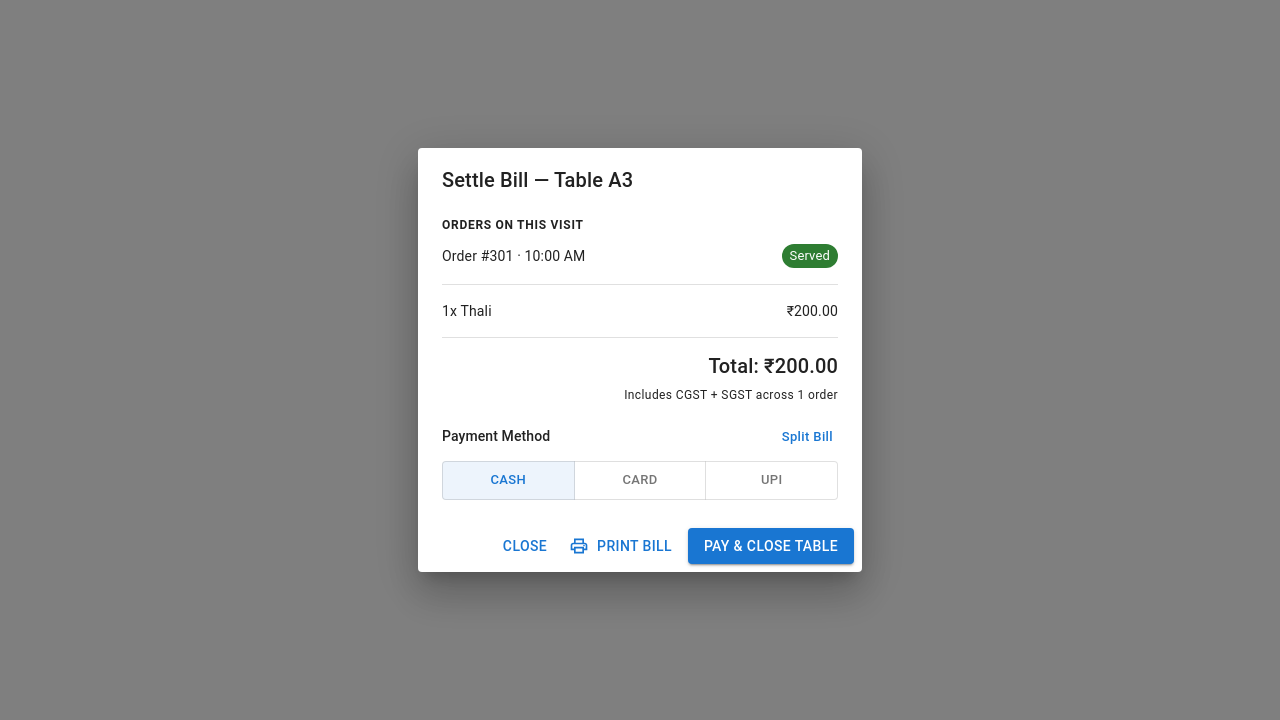
Test case: SettleBillDialog - split bill › blocks settling while the splits don't add up to the amount due
Expected: the heading "Total: ₹200.00" is shown, [709,354,838,378]
Step 1. Click the button "Split Bill" → (807, 437), box [777,422,838,453]
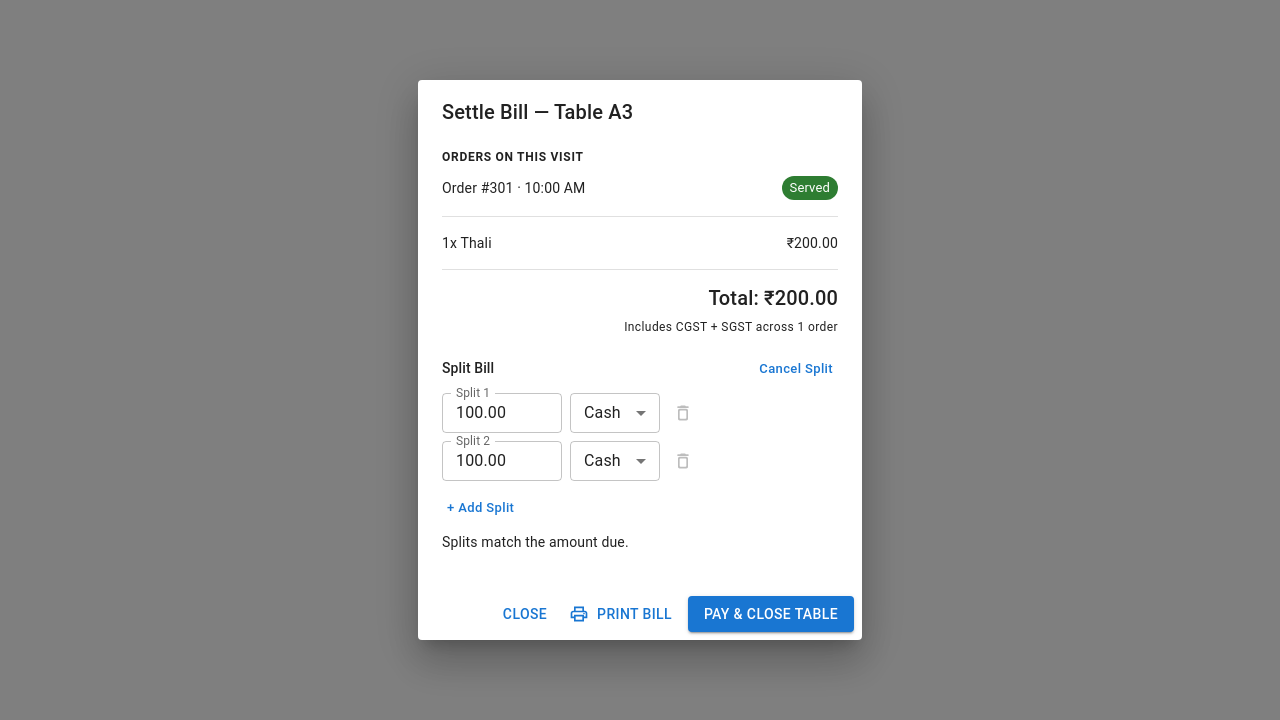
Step 2. Replace the text in the number field labelled "Split 1" with "50" → (502, 413), box [442,393,562,433]
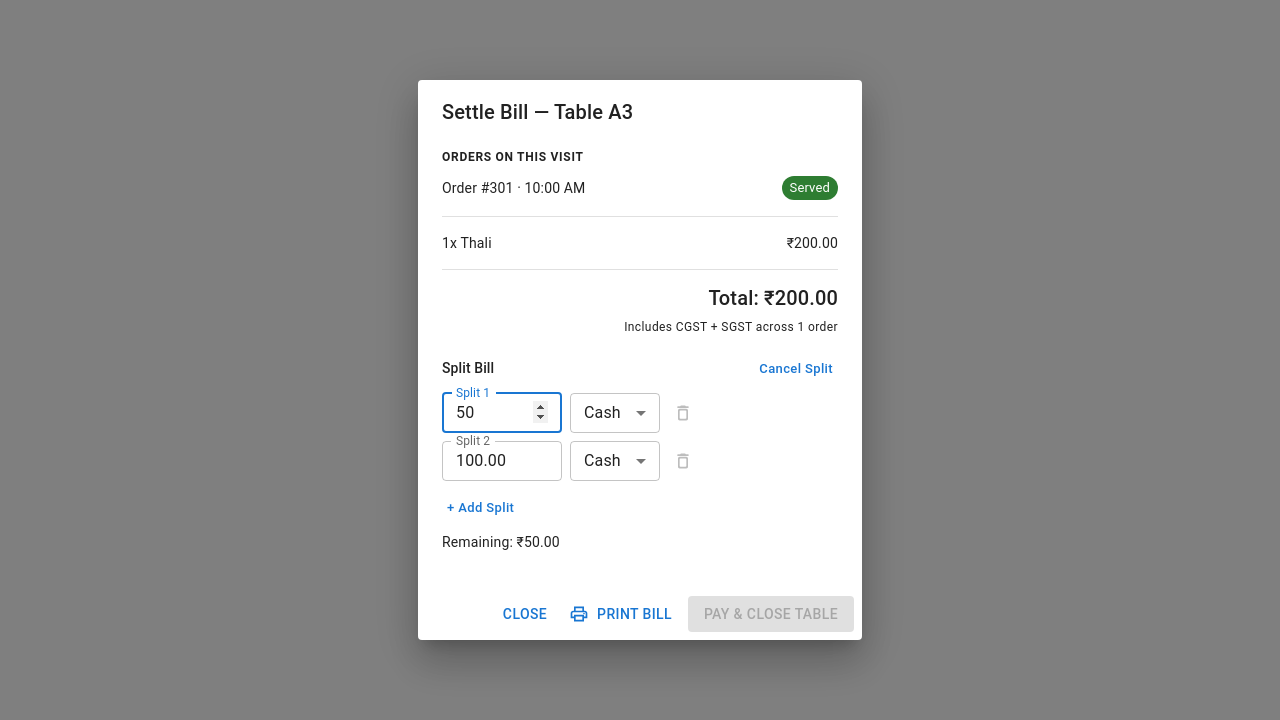
Expected: the button "Pay & Close Table" is disabled, [688,596,854,632]
Expected: the text "Remaining: ₹50.00" is shown, [442,534,560,550]
